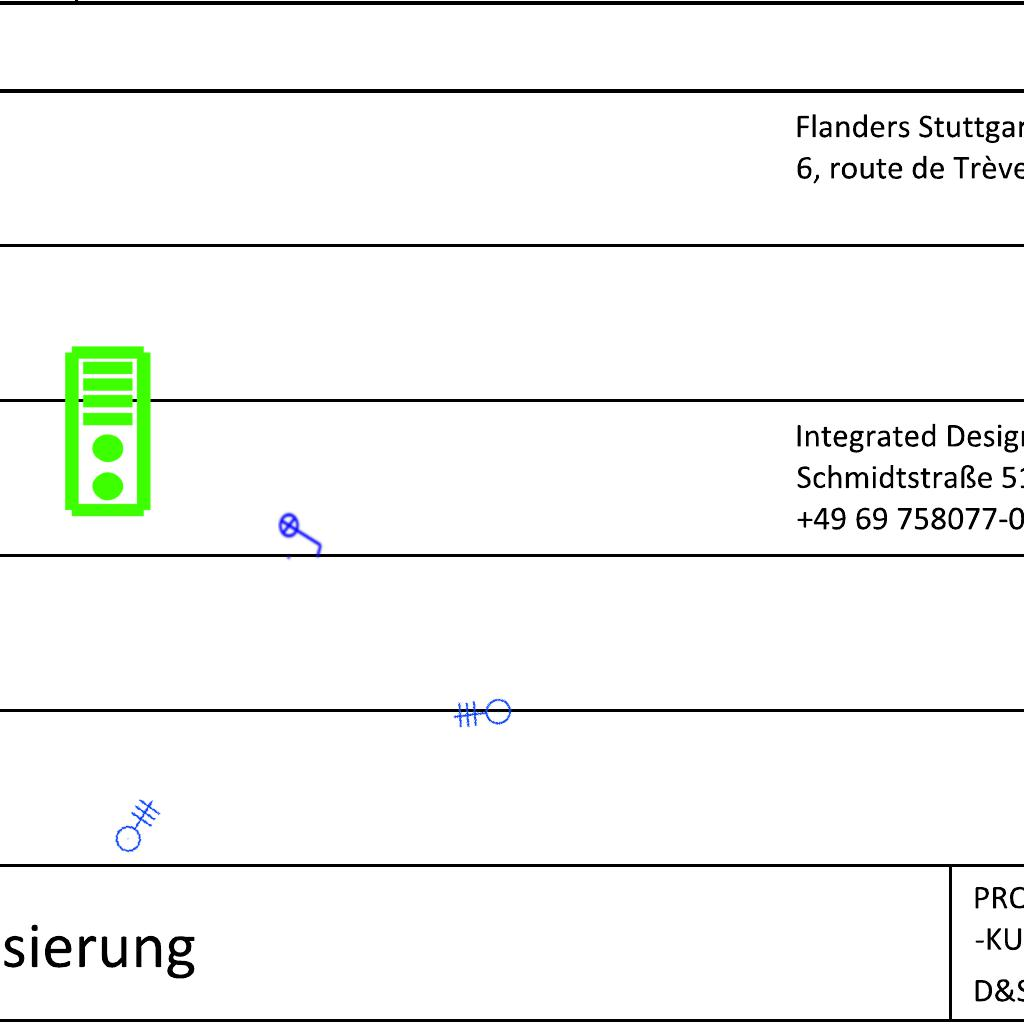Ausschalter_beleuchtet: (278, 506, 326, 562)
Elektroanschluss_allgemein_400V_Geraeteanschlussdose_400V: (442, 677, 524, 759), (98, 789, 168, 857)
Gegensprechanlage_mit_Video: (62, 344, 157, 520)
